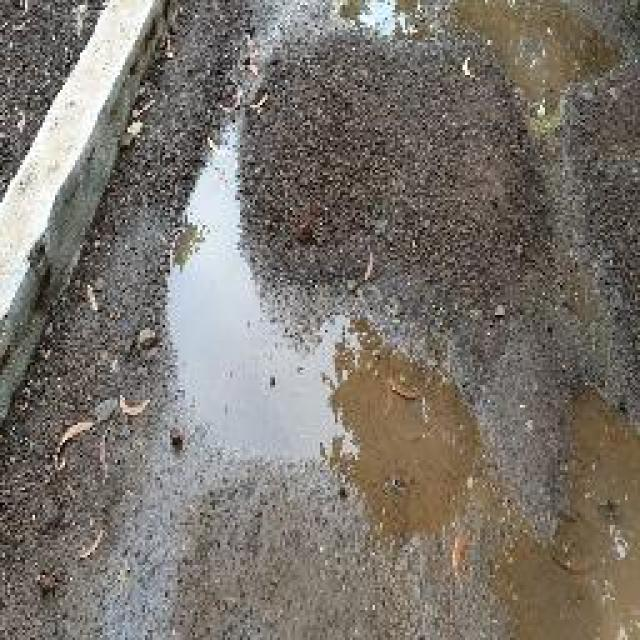puddle: (153, 145, 478, 539)
